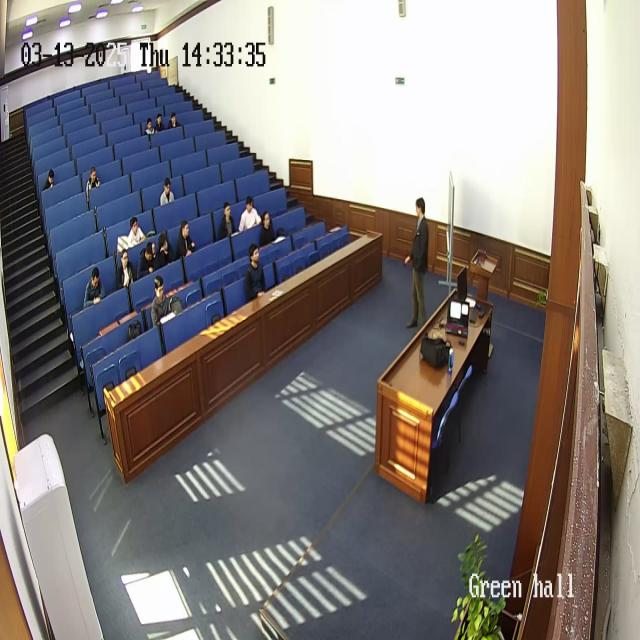person: (404, 197, 430, 328), (244, 244, 267, 302), (150, 276, 174, 326), (83, 267, 105, 309), (239, 195, 261, 232), (137, 241, 157, 280), (217, 202, 237, 241), (176, 220, 195, 260), (117, 248, 135, 289), (156, 231, 176, 267), (258, 211, 276, 248), (125, 216, 145, 248), (86, 167, 100, 206), (160, 177, 176, 205), (44, 169, 55, 191), (144, 117, 156, 136), (168, 111, 180, 129), (155, 113, 165, 131)
